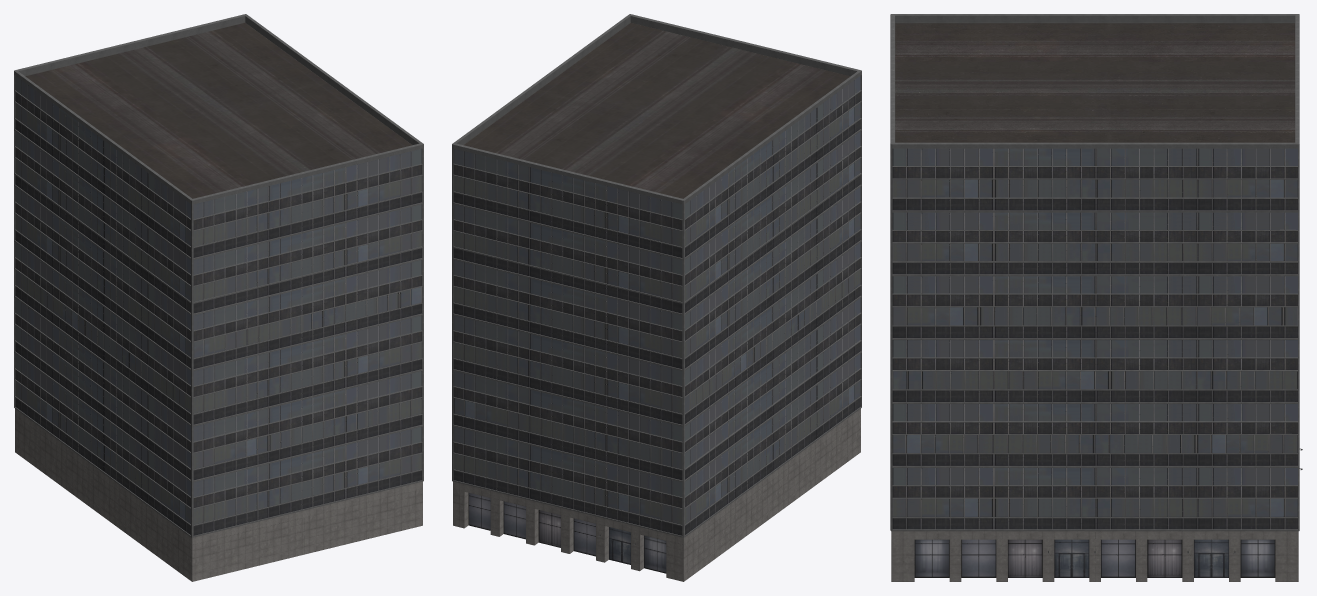
File: building.glb
3 views of the same model, side by side, from view 1: azimuth 30°, elevation 25°; view 2: azimuth 150°, elevation 25°; view 3: azimuth 270°, elevation 25° (orthographic). The views are drawn at different scales.
Parts seen in each view (by area): view 1: Plane.002, Plane.004, Cube.002, Cube.003; view 2: Plane.002, Plane.004, Cube.003; view 3: Plane.002, Plane.004, Cube.002, Cube.003.
Boxes of the visible parts, bbox=[...] form: Plane.002: bbox=[15, 76, 421, 535]; Plane.004: bbox=[14, 14, 423, 537]; Cube.002: bbox=[192, 481, 422, 581]; Cube.003: bbox=[15, 409, 192, 581]; Plane.002: bbox=[453, 76, 860, 535]; Plane.004: bbox=[452, 14, 861, 537]; Cube.003: bbox=[453, 409, 860, 581]; Plane.002: bbox=[892, 148, 1297, 529]; Plane.004: bbox=[890, 14, 1299, 531]; Cube.002: bbox=[891, 531, 1235, 581]; Cube.003: bbox=[1234, 448, 1302, 581].
Size of the model in its own units: 26.73 by 41.55 by 35.41.
4 materials, 4 textured.
